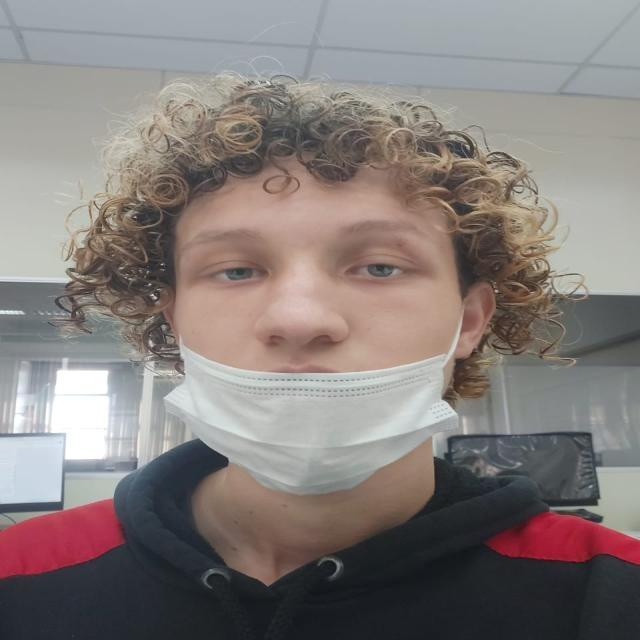hairnet: (174, 202, 458, 485)
